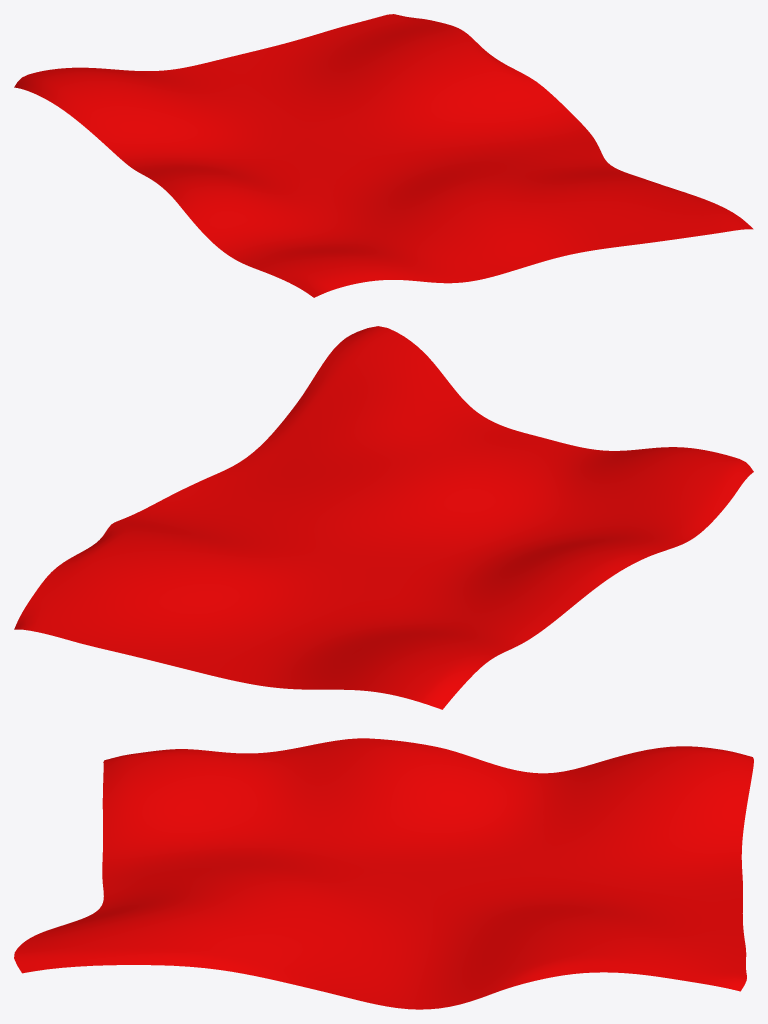
The model's file is Grass.fbx.
3 renders of one model, top to bottom at view 1: azimuth 30°, elevation 25°; view 2: azimuth 150°, elevation 25°; view 3: azimuth 270°, elevation 25°, orthographic. The views are drawn at different scales.
Visible parts, largest first — view 1: pCube5; view 2: pCube5; view 3: pCube5.
Part boxes in pixels (x1=…): pCube5: x1=14, y1=14, x2=753, y2=297; pCube5: x1=14, y1=326, x2=753, y2=709; pCube5: x1=14, y1=738, x2=753, y2=1009.
Size of the model in its own units: 25.59 by 2.42 by 34.9.
